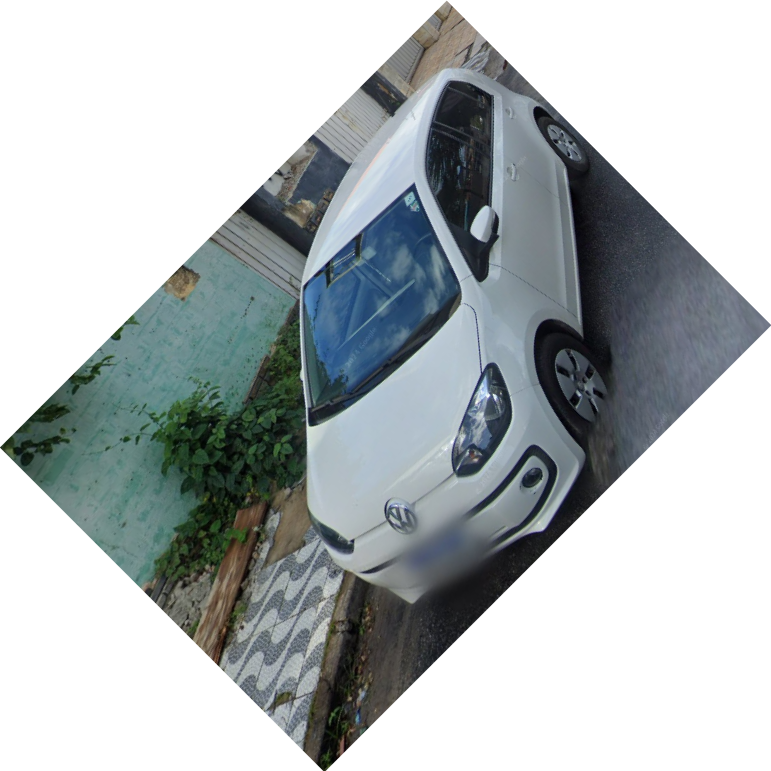car: (292, 66, 607, 598)
